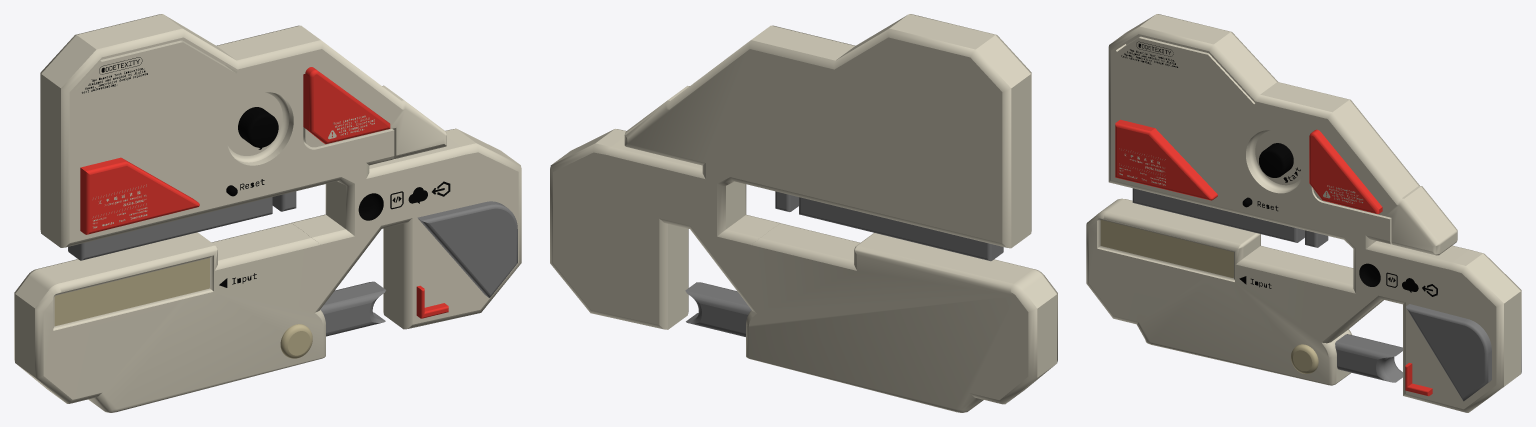
The picture shows the model from 3 angles, left to right: view 1: azimuth 30°, elevation 25°; view 2: azimuth 150°, elevation 25°; view 3: azimuth 330°, elevation 25°; orthographic projection. The views are drawn at different scales.
Visible parts, largest first — view 1: 主体, Extrude_6, Extrude, 屏幕, Extrude_8, Extrude_5, Extrude_1, Buttom, Extrude_9, Attention, Disc, Extrude_4 (+1 smaller); view 2: 主体, Extrude_8, Extrude_1; view 3: 主体, Extrude_6, Extrude, 屏幕, Extrude_5, Extrude_8, Extrude_1, Buttom, Extrude_9, Attention, Extrude_4, Disc.
Boxes of the visible parts, <box> form: 主体: <box>14,14,521,412</box>; Extrude_6: <box>80,157,199,234</box>; Extrude: <box>417,201,517,297</box>; 屏幕: <box>54,258,209,326</box>; Extrude_8: <box>68,191,296,260</box>; Extrude_5: <box>303,67,390,144</box>; Extrude_1: <box>320,281,385,336</box>; Buttom: <box>238,107,278,147</box>; Extrude_9: <box>280,324,312,358</box>; Attention: <box>82,57,147,93</box>; Disc: <box>358,193,383,220</box>; Extrude_4: <box>416,285,448,318</box>; 主体: <box>550,14,1057,412</box>; Extrude_8: <box>775,191,1003,261</box>; Extrude_1: <box>685,282,751,336</box>; 主体: <box>1086,14,1521,412</box>; Extrude_6: <box>1115,119,1217,200</box>; Extrude: <box>1406,304,1491,401</box>; 屏幕: <box>1100,220,1233,277</box>; Extrude_5: <box>1309,129,1382,213</box>; Extrude_8: <box>1132,188,1328,247</box>; Extrude_1: <box>1335,334,1402,382</box>; Buttom: <box>1259,143,1293,177</box>; Extrude_9: <box>1291,344,1318,373</box>; Attention: <box>1121,41,1177,67</box>; Extrude_4: <box>1405,363,1432,396</box>; Disc: <box>1359,263,1380,286</box>.
Size of the model in its own units: 17.01 by 12.2 by 2.02.
